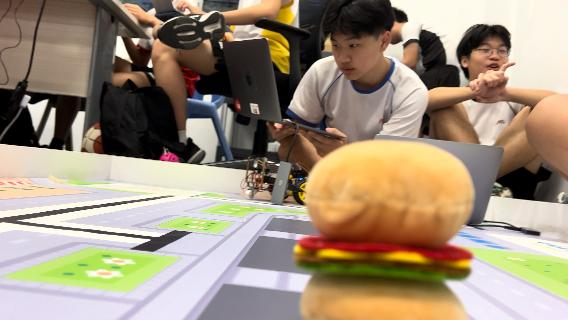burger: (292, 136, 480, 320)
